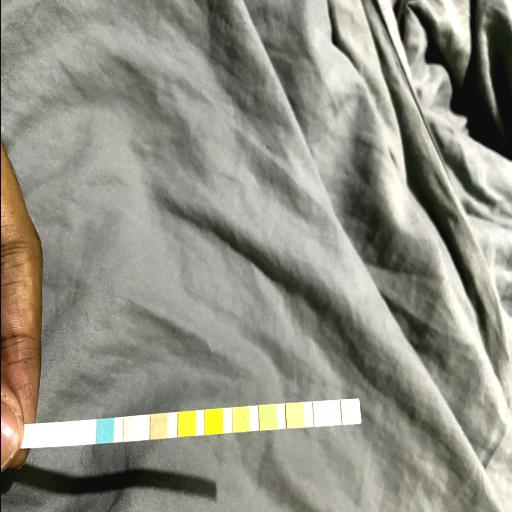Bilirubin: (123, 417, 141, 441)
Blood: (206, 410, 222, 434)
Glucose: (96, 419, 113, 443)
Ketone: (150, 414, 168, 438)
Leukocytes: (340, 400, 358, 424)
Nitrite: (313, 402, 330, 426)
Protein: (258, 406, 276, 429)
SpGravity: (177, 412, 195, 436)
Urobilinogen: (286, 404, 302, 426)
pH: (232, 408, 248, 432)
strip: (25, 397, 361, 448)
